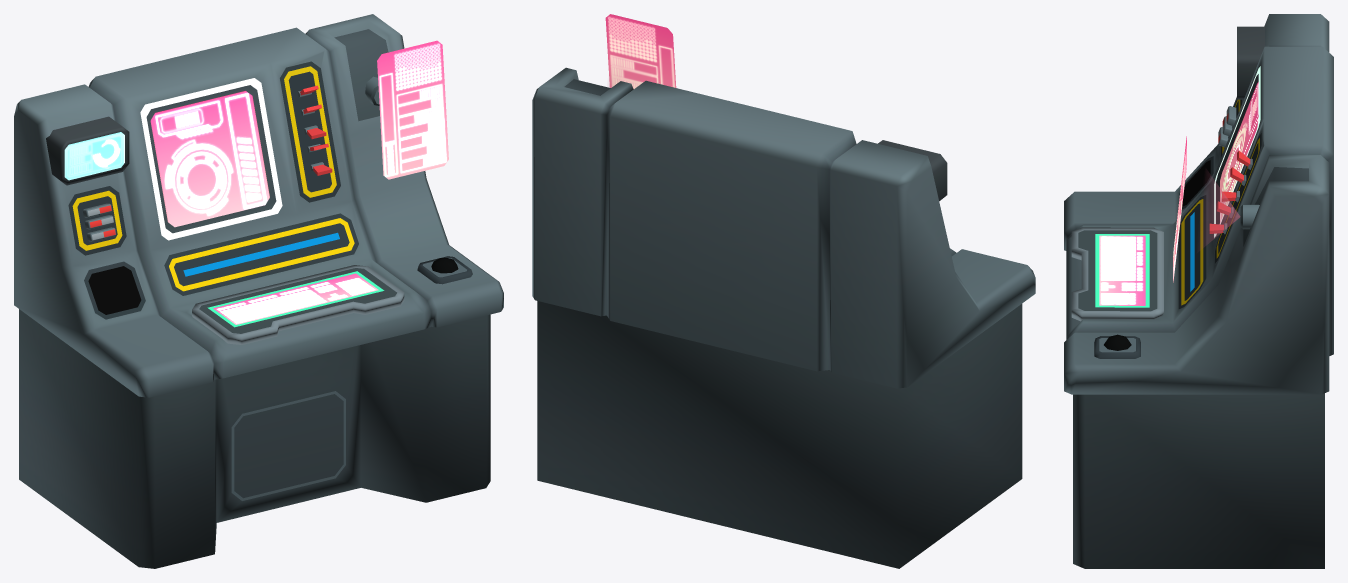
The model's file is Terminal_014.glb.
3 views of the same model, side by side, from view 1: azimuth 30°, elevation 25°; view 2: azimuth 150°, elevation 25°; view 3: azimuth 270°, elevation 25° (orthographic). The views are drawn at different scales.
Visible parts, largest first — view 1: Terminal_014; view 2: Terminal_014; view 3: Terminal_014.
Part boxes in pixels (x1,y1,x2,y2): Terminal_014: [14, 14, 503, 568]; Terminal_014: [532, 14, 1035, 568]; Terminal_014: [1064, 14, 1333, 568].
Size of the model in its own units: 1.4 by 1.48 by 0.8952.
Materials: 4 (4 with a texture image).
